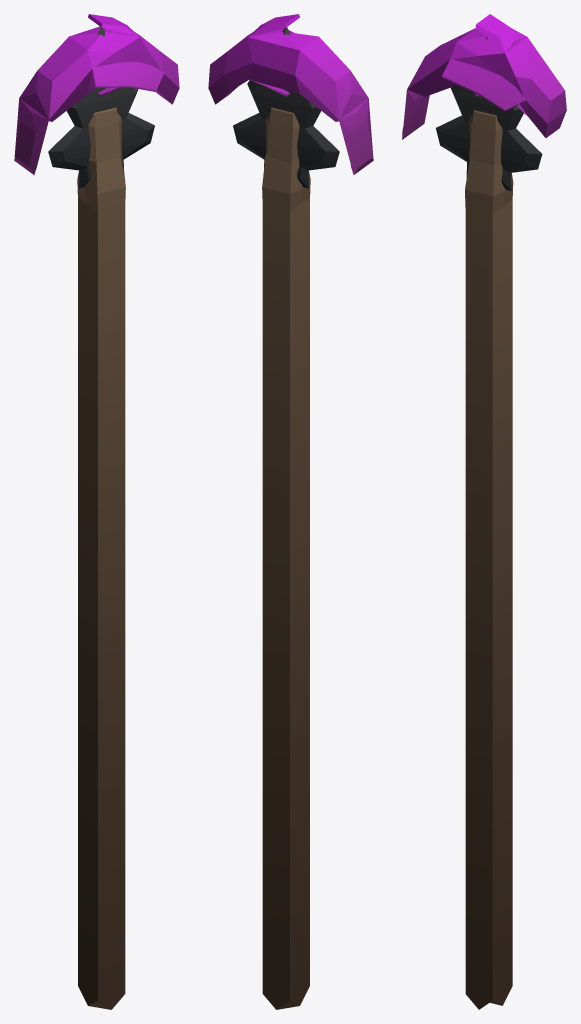
The model's file is SpearedFish.fbx.
3 views of the same model, side by side, from view 1: azimuth 30°, elevation 25°; view 2: azimuth 150°, elevation 25°; view 3: azimuth 330°, elevation 25° (orthographic).
Parts seen in each view (by area): view 1: SpearedFish; view 2: SpearedFish; view 3: SpearedFish.
Part boxes in pixels (left/top/right/bottom): SpearedFish: left=14, top=14, right=179, bottom=1009; SpearedFish: left=208, top=14, right=373, bottom=1009; SpearedFish: left=402, top=14, right=566, bottom=1009.
Size of the model in its own units: 38 by 241 by 15.9.
Materials: 1 (1 with a texture image).
